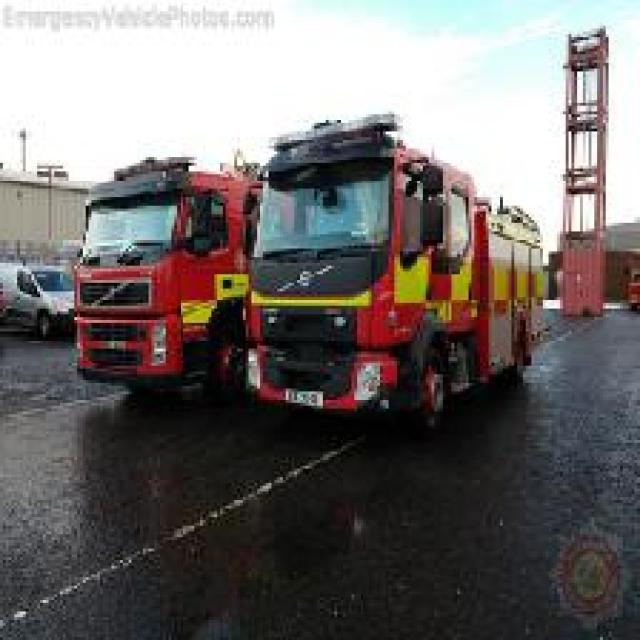Fire-truck: (237, 109, 546, 428), (71, 152, 260, 397)
